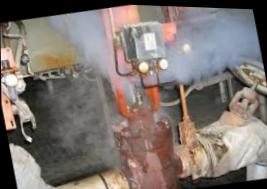leak: (39, 7, 262, 121)
